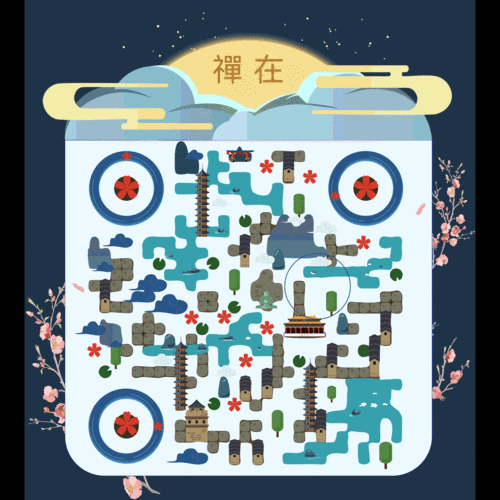QRCode: (84, 146, 419, 469)
